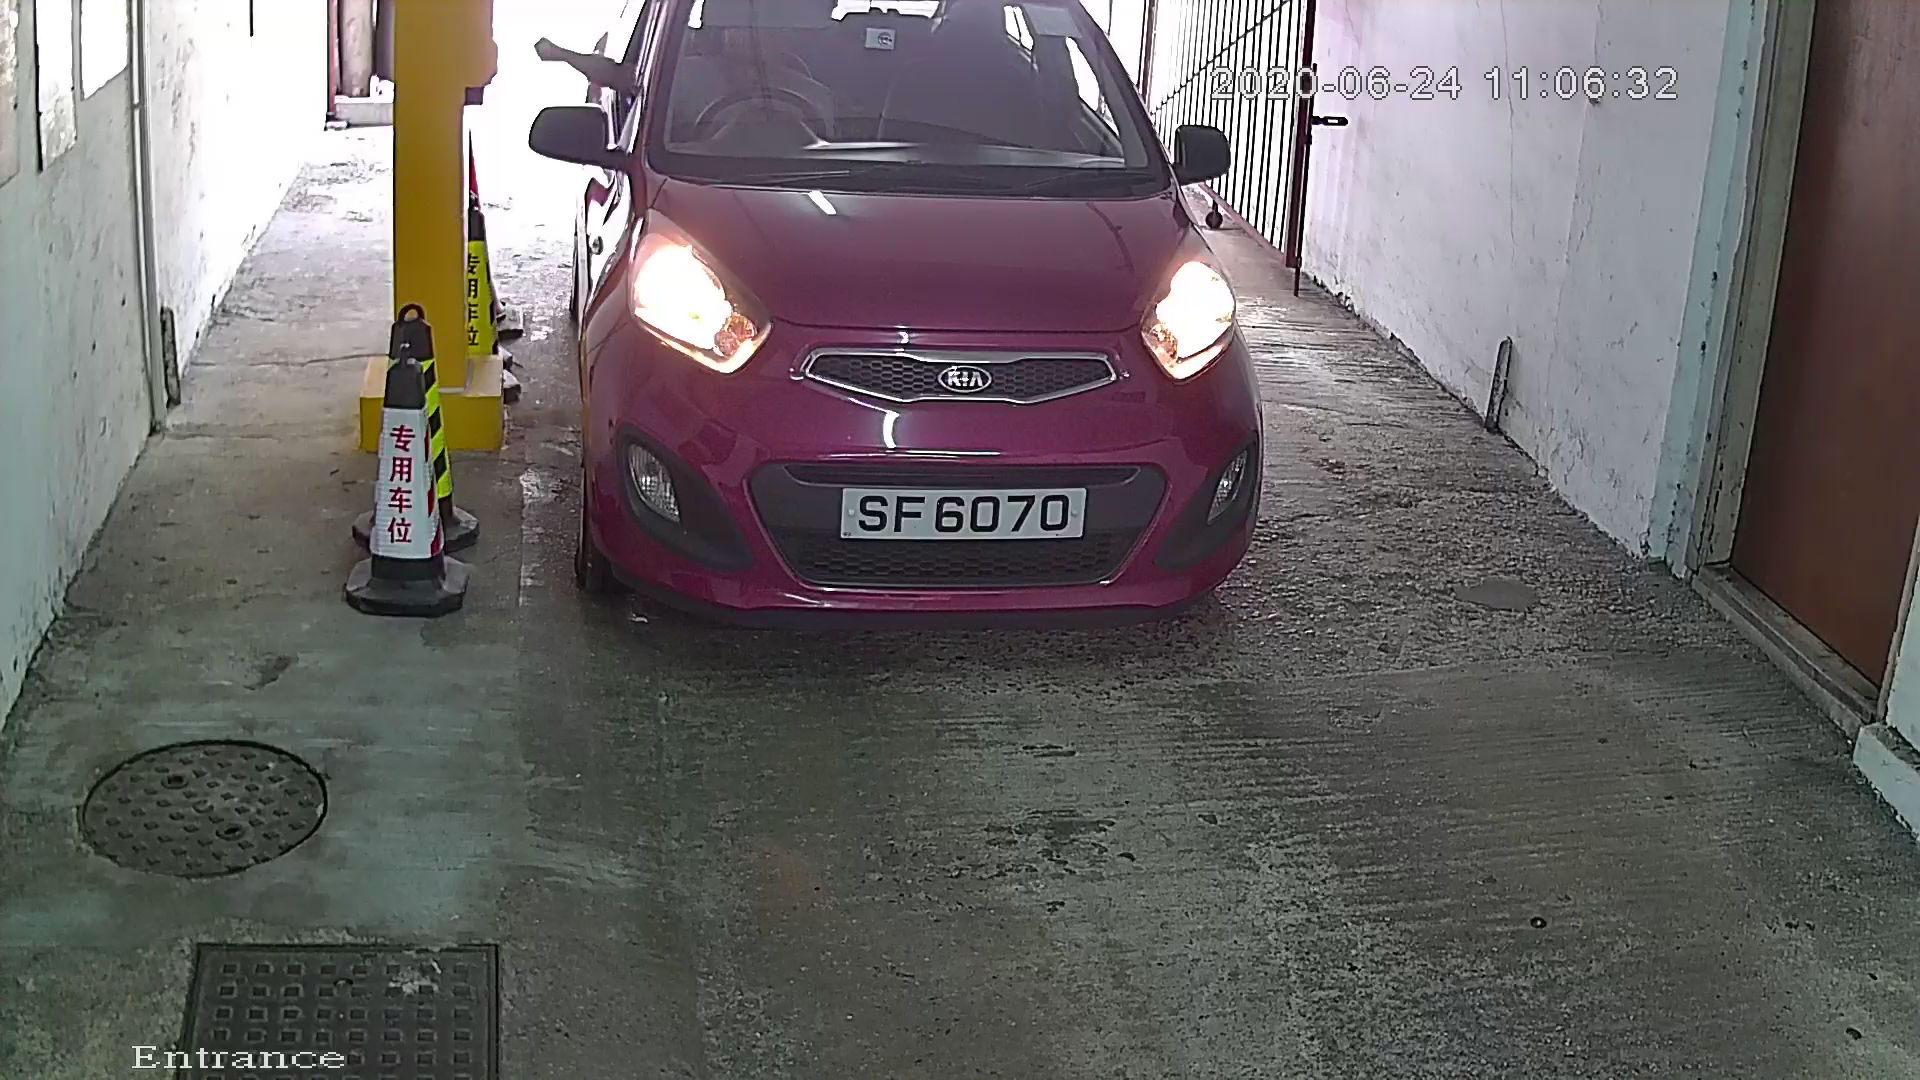Car: (540, 1, 1260, 690)
License Plate: (831, 470, 1100, 564)
